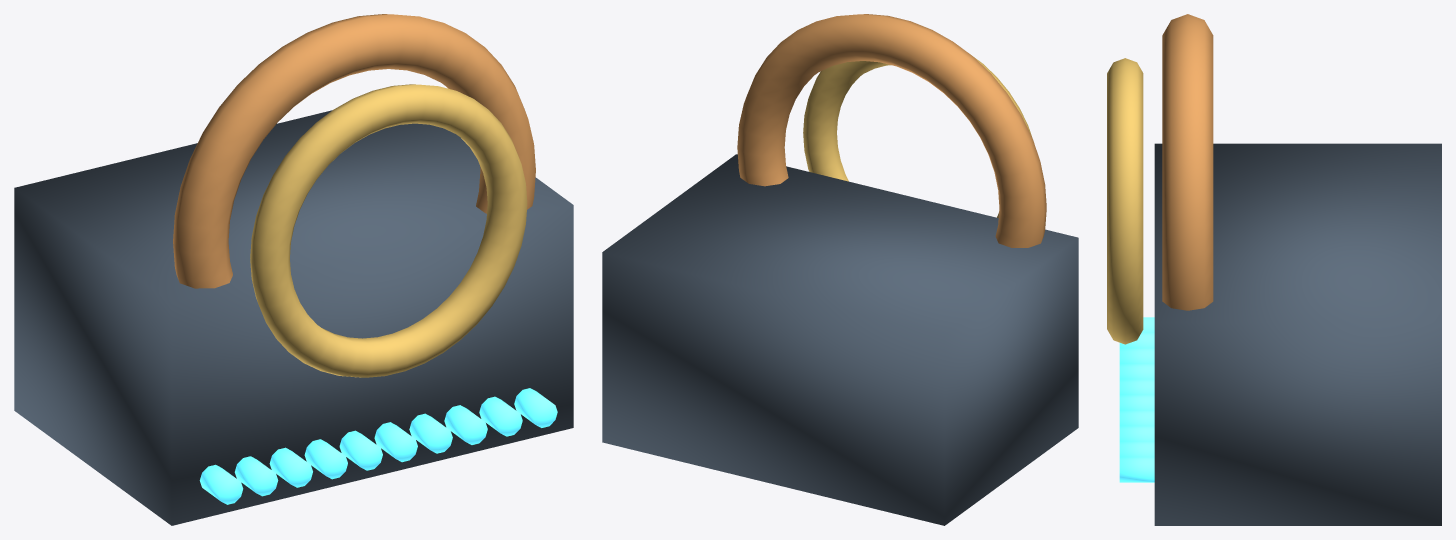
Rendered from 58_L87_ContactlessRotaryPowerCouplerBackup.glb.
The picture shows the model from 3 angles, left to right: view 1: azimuth 30°, elevation 25°; view 2: azimuth 150°, elevation 25°; view 3: azimuth 270°, elevation 25°; orthographic projection. The views are drawn at different scales.
Parts seen in each view (by area): view 1: L87_ContactlessRotaryPowerCou_Part_0000, L87_ContactlessRotaryPowerCou_Part_0002, L87_ContactlessRotaryPowerCou_Part_0001, L87_ContactlessRotaryPowerCou_Part_0003; view 2: L87_ContactlessRotaryPowerCou_Part_0000, L87_ContactlessRotaryPowerCou_Part_0001, L87_ContactlessRotaryPowerCou_Part_0002; view 3: L87_ContactlessRotaryPowerCou_Part_0000, L87_ContactlessRotaryPowerCou_Part_0001, L87_ContactlessRotaryPowerCou_Part_0002, L87_ContactlessRotaryPowerCou_Part_0003.
Part boxes in pixels (box(x1,y1,x2,y2)): L87_ContactlessRotaryPowerCou_Part_0000: box(14, 110, 573, 525); L87_ContactlessRotaryPowerCou_Part_0002: box(250, 84, 527, 377); L87_ContactlessRotaryPowerCou_Part_0001: box(173, 14, 535, 288); L87_ContactlessRotaryPowerCou_Part_0003: box(199, 388, 557, 504); L87_ContactlessRotaryPowerCou_Part_0000: box(602, 154, 1078, 525); L87_ContactlessRotaryPowerCou_Part_0001: box(737, 14, 1046, 247); L87_ContactlessRotaryPowerCou_Part_0002: box(803, 54, 1031, 217); L87_ContactlessRotaryPowerCou_Part_0000: box(1154, 143, 1441, 525); L87_ContactlessRotaryPowerCou_Part_0001: box(1162, 14, 1213, 310); L87_ContactlessRotaryPowerCou_Part_0002: box(1107, 58, 1143, 344); L87_ContactlessRotaryPowerCou_Part_0003: box(1119, 317, 1154, 482).
Size of the model in its own units: 1.15 by 1.21 by 0.9092.
